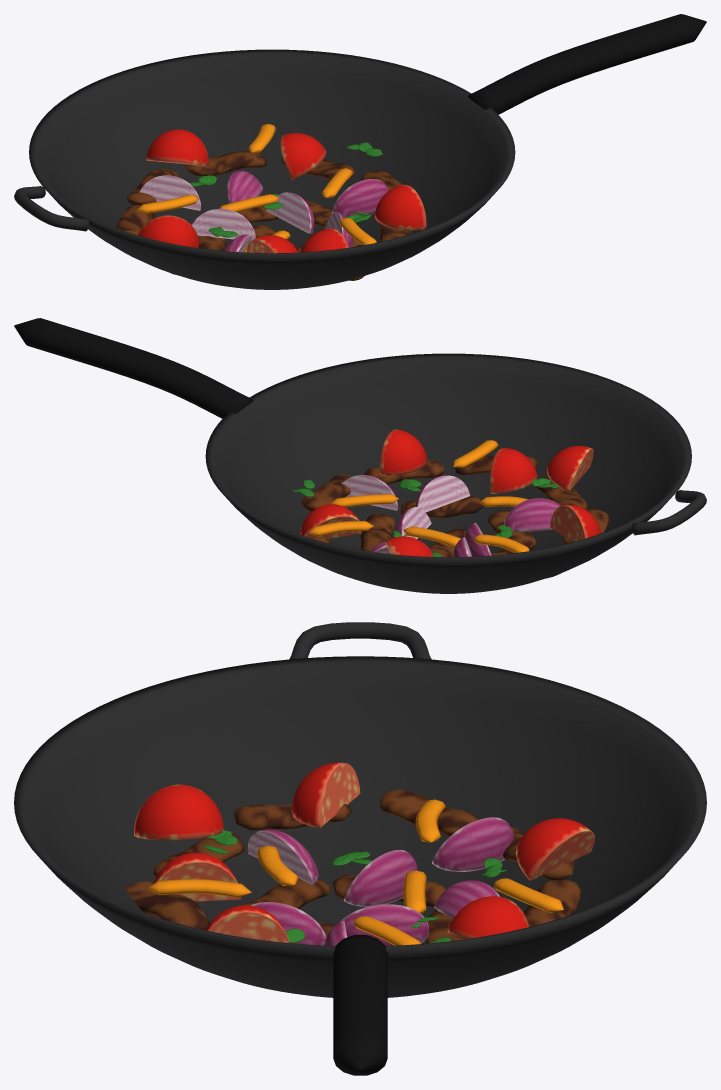
The model's file is paso-4.glb.
3 views of the same model, one above another, from view 1: azimuth 30°, elevation 25°; view 2: azimuth 150°, elevation 25°; view 3: azimuth 270°, elevation 25° (orthographic). The views are drawn at different scales.
Parts seen in each view (by area): view 1: paso-4-0, paso-4-1, paso-4-28, paso-4-29, paso-4-26, paso-4-23, paso-4-27, paso-4-2, paso-4-19, paso-4-11, paso-4-24, paso-4-18 (+11 smaller); view 2: paso-4-0, paso-4-1, paso-4-28, paso-4-25, paso-4-30, paso-4-22, paso-4-27, paso-4-20, paso-4-2, paso-4-26, paso-4-23, paso-4-9 (+14 smaller); view 3: paso-4-0, paso-4-1, paso-4-30, paso-4-29, paso-4-27, paso-4-24, paso-4-19, paso-4-2, paso-4-26, paso-4-28, paso-4-16, paso-4-25 (+17 smaller).
Boxes of the visible parts, x1,y1,x2,y2 form: paso-4-0: [29, 49, 515, 289]; paso-4-1: [468, 14, 706, 114]; paso-4-28: [374, 184, 426, 230]; paso-4-29: [146, 129, 209, 166]; paso-4-26: [280, 133, 326, 179]; paso-4-23: [332, 179, 388, 217]; paso-4-27: [138, 215, 198, 247]; paso-4-2: [14, 186, 88, 231]; paso-4-19: [192, 208, 255, 239]; paso-4-11: [184, 151, 266, 176]; paso-4-24: [139, 175, 201, 210]; paso-4-18: [266, 192, 314, 233]; paso-4-0: [205, 353, 691, 593]; paso-4-1: [14, 318, 252, 418]; paso-4-28: [380, 429, 427, 475]; paso-4-25: [490, 448, 537, 493]; paso-4-30: [547, 445, 593, 492]; paso-4-22: [504, 498, 560, 531]; paso-4-27: [550, 505, 600, 541]; paso-4-20: [415, 475, 470, 512]; paso-4-2: [632, 490, 706, 535]; paso-4-26: [300, 504, 362, 538]; paso-4-23: [342, 475, 398, 510]; paso-4-9: [301, 474, 352, 511]; paso-4-0: [14, 656, 706, 997]; paso-4-1: [333, 935, 387, 1075]; paso-4-30: [134, 784, 223, 840]; paso-4-29: [516, 818, 594, 880]; paso-4-27: [292, 762, 360, 827]; paso-4-24: [432, 817, 513, 871]; paso-4-19: [343, 850, 417, 906]; paso-4-2: [289, 622, 431, 659]; paso-4-26: [447, 896, 529, 939]; paso-4-28: [206, 905, 289, 942]; paso-4-16: [126, 881, 209, 930]; paso-4-25: [153, 852, 241, 901].
Bounding box in the file's own units: 0.5164 × 0.1037 × 0.3198.
